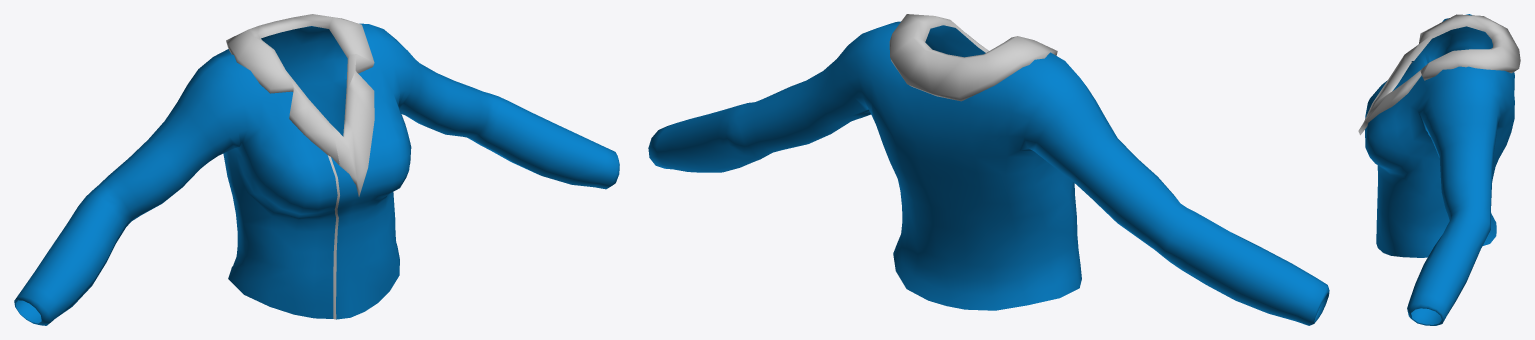
The picture shows the model from 3 angles, left to right: view 1: azimuth 30°, elevation 25°; view 2: azimuth 150°, elevation 25°; view 3: azimuth 270°, elevation 25°; orthographic projection. The views are drawn at different scales.
Visible parts, largest first — view 1: cgirl_top_2; view 2: cgirl_top_2; view 3: cgirl_top_2.
Boxes of the visible parts, <box> form: cgirl_top_2: <box>14,14,619,325</box>; cgirl_top_2: <box>648,14,1329,325</box>; cgirl_top_2: <box>1358,14,1520,325</box>.
Size of the model in its own units: 10019 by 4011 by 2807.
